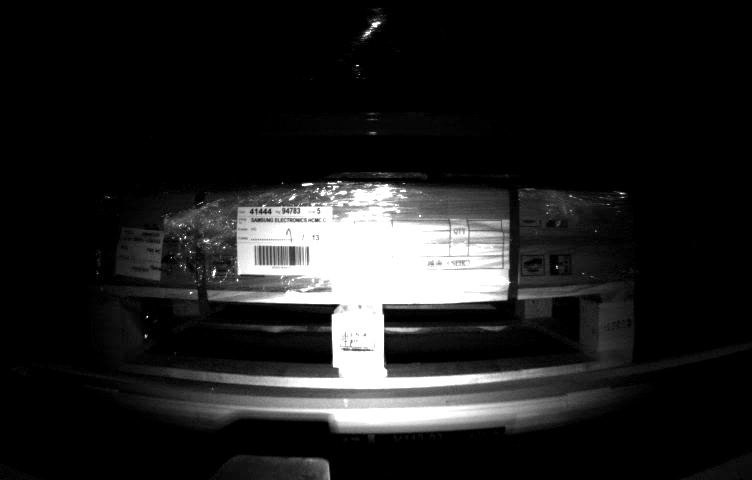True Barcode: (112, 223, 168, 287)
